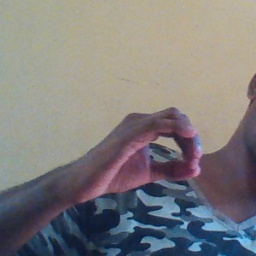O: (84, 105, 212, 195)
